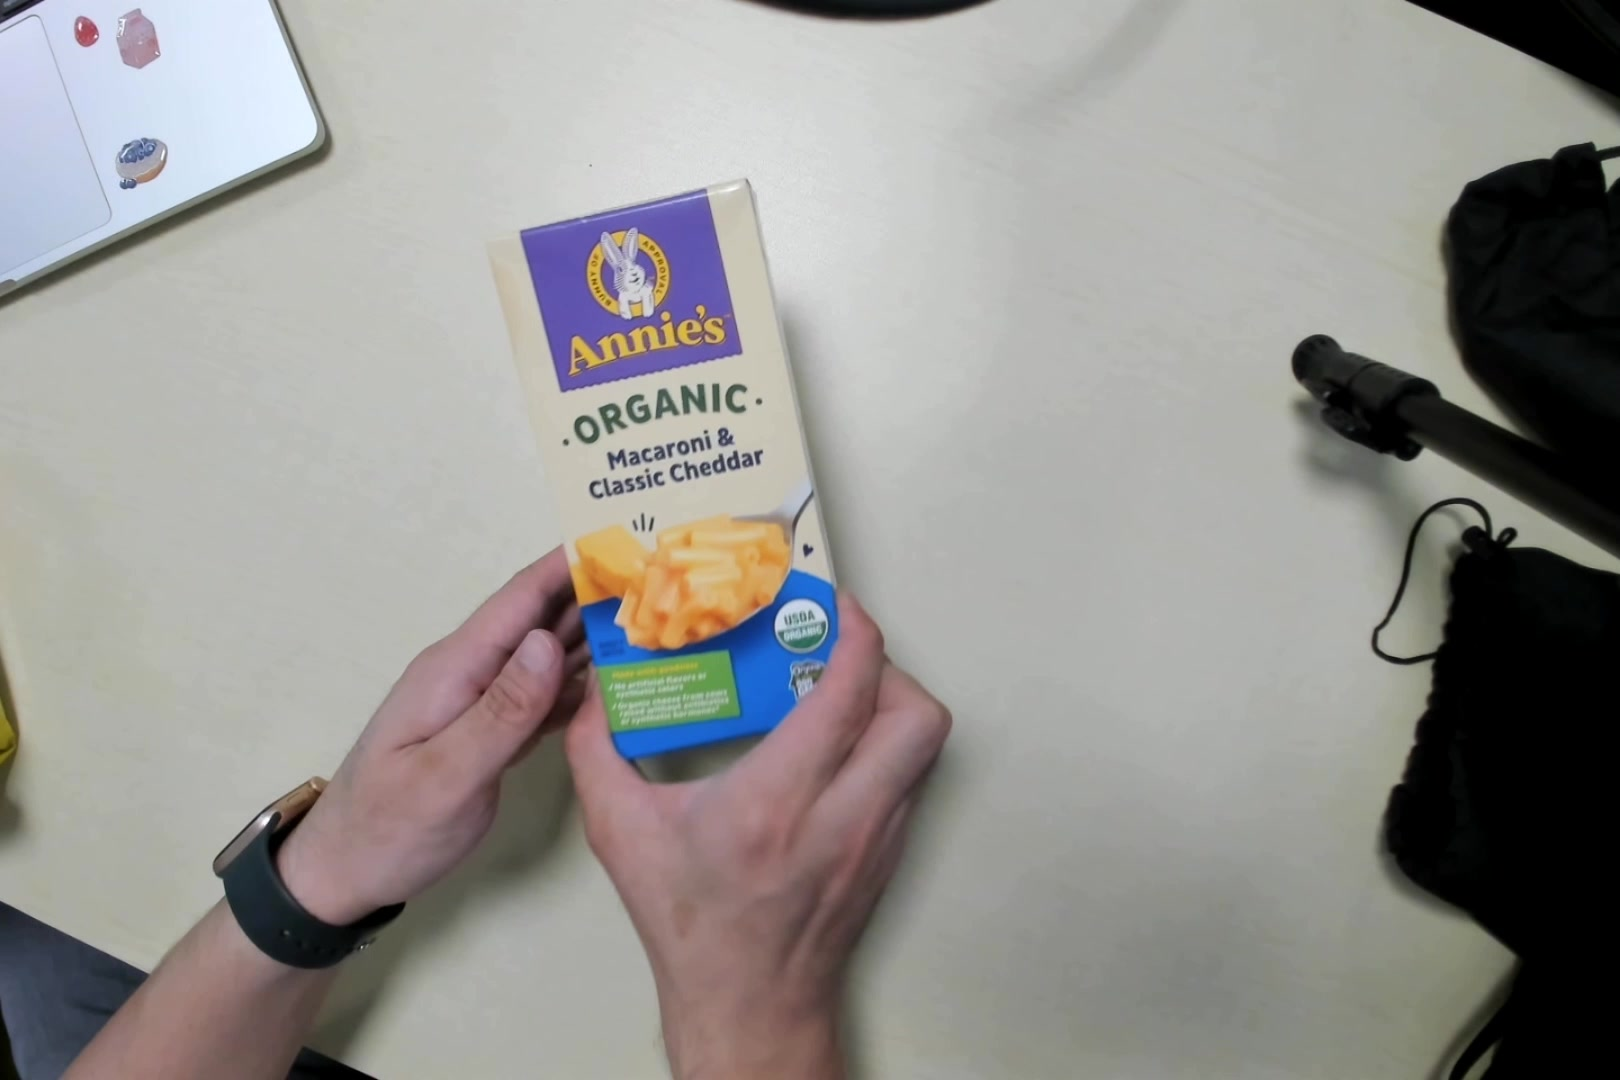InstantMeals_200-299g_NonHalal_NonHealthy: (486, 180, 850, 771)
